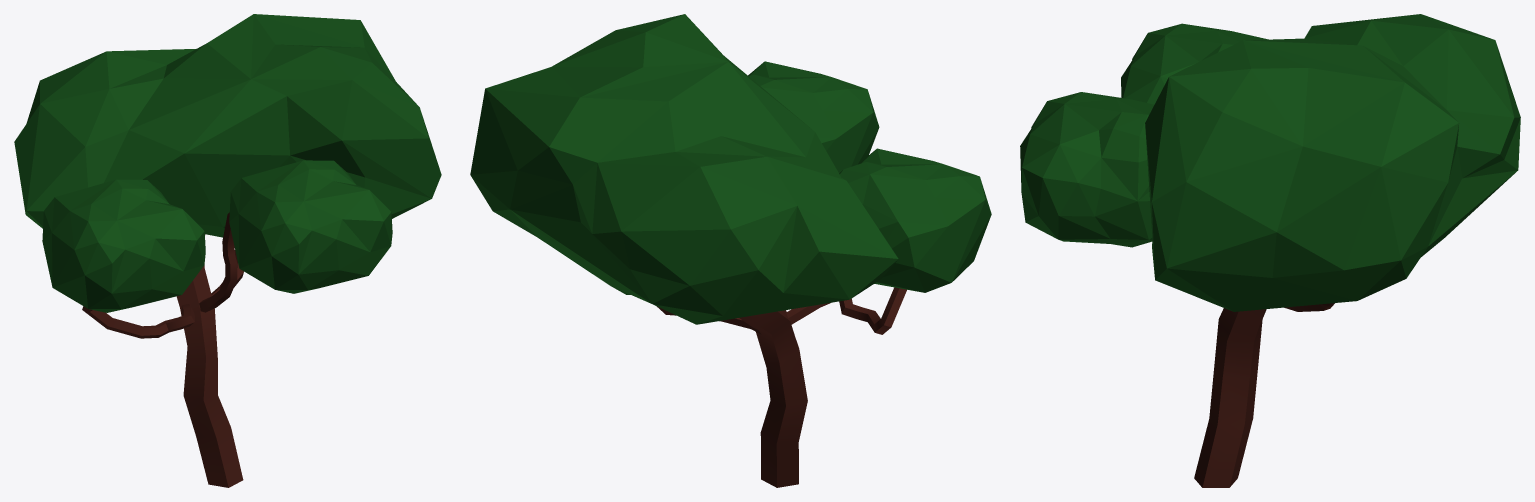
File: SM_groundcover_plant.fbx
3 views of the same model, side by side, from view 1: azimuth 30°, elevation 25°; view 2: azimuth 150°, elevation 25°; view 3: azimuth 270°, elevation 25° (orthographic). The views are drawn at different scales.
Visible parts, largest first — view 1: groundcover_plant; view 2: groundcover_plant; view 3: groundcover_plant.
Part boxes in pixels (left/top/right/bottom): groundcover_plant: left=14, top=14, right=441, bottom=487; groundcover_plant: left=470, top=14, right=991, bottom=487; groundcover_plant: left=1020, top=14, right=1520, bottom=487.
Size of the model in its own units: 503 by 485 by 460.
